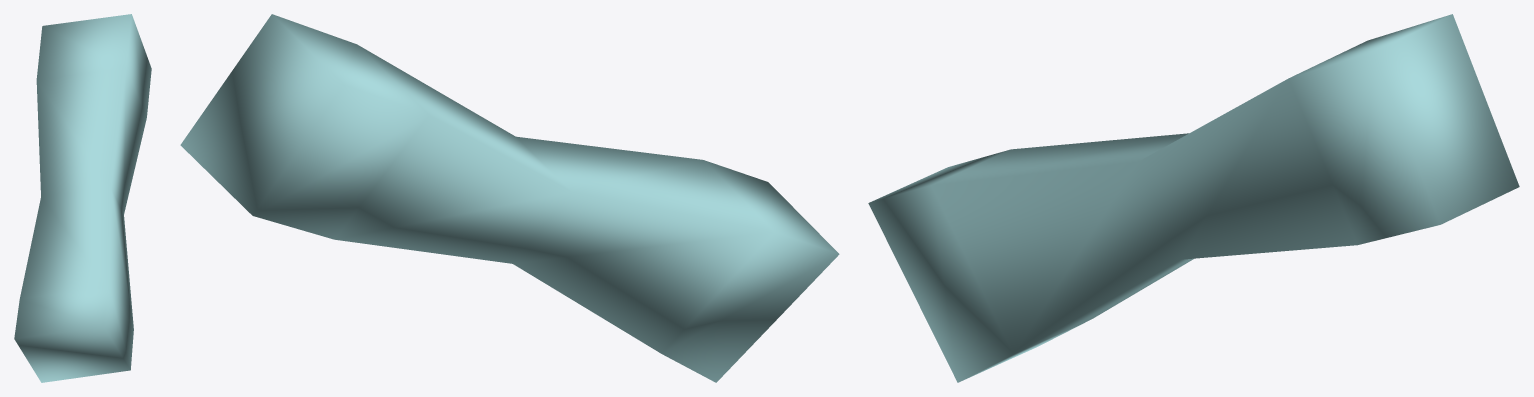
File: Skelly_thumb.01.R.fbx
3 renders of one model, left to right at view 1: azimuth 30°, elevation 25°; view 2: azimuth 150°, elevation 25°; view 3: azimuth 270°, elevation 25°, orthographic. The views are drawn at different scales.
Parts seen in each view (by area): view 1: Skelly_thumb.01.R; view 2: Skelly_thumb.01.R; view 3: Skelly_thumb.01.R.
Part boxes in pixels (box(x1,y1,x2,y2)): Skelly_thumb.01.R: box(14, 14, 151, 382); Skelly_thumb.01.R: box(180, 14, 839, 382); Skelly_thumb.01.R: box(868, 14, 1519, 382).
Bounding box in the file's own units: 3 × 2.66 × 3.44.
